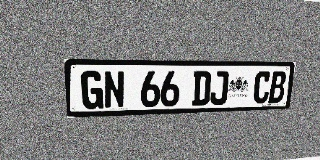6: (141, 71, 161, 107), (160, 71, 180, 107)
B: (268, 71, 287, 103)
C: (252, 71, 271, 104)
D: (192, 71, 211, 106)
G: (80, 71, 103, 109)
J: (210, 71, 229, 105)
N: (103, 71, 125, 109)
